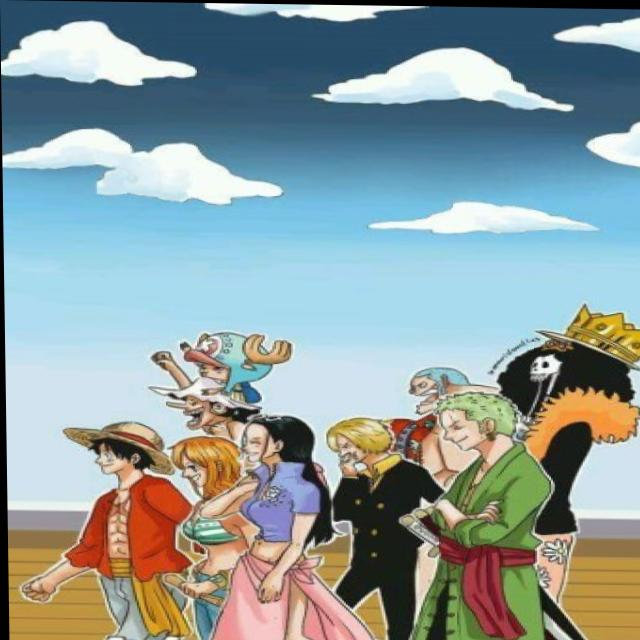Blook: (485, 301, 640, 431)
Chyopa: (177, 315, 333, 382)
Franky: (390, 360, 472, 414)
Luffy: (58, 413, 182, 491)
Nami: (170, 435, 246, 501)
NicoRobin: (228, 405, 328, 476)
Sangdi: (312, 413, 410, 482)
Usopp: (145, 377, 258, 434)
Zoro: (420, 388, 536, 459)
